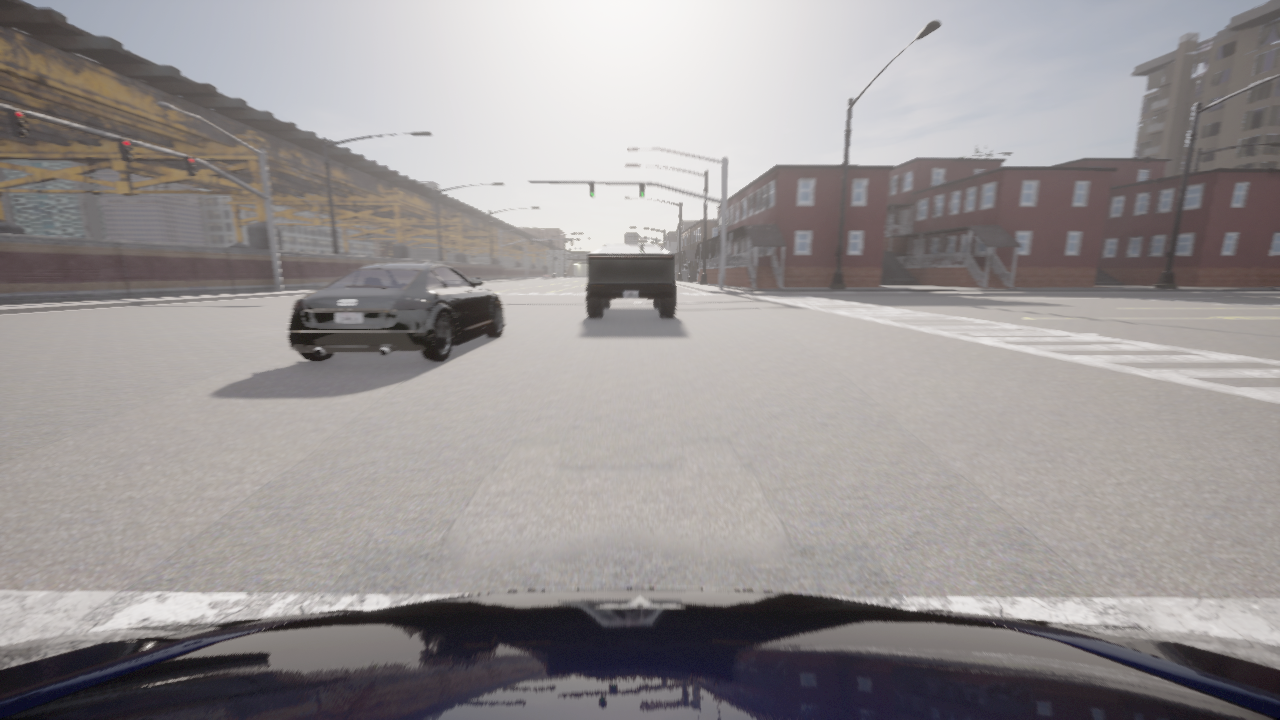cyclist: (0, 588, 1279, 719), (287, 262, 503, 361), (586, 244, 675, 317)
